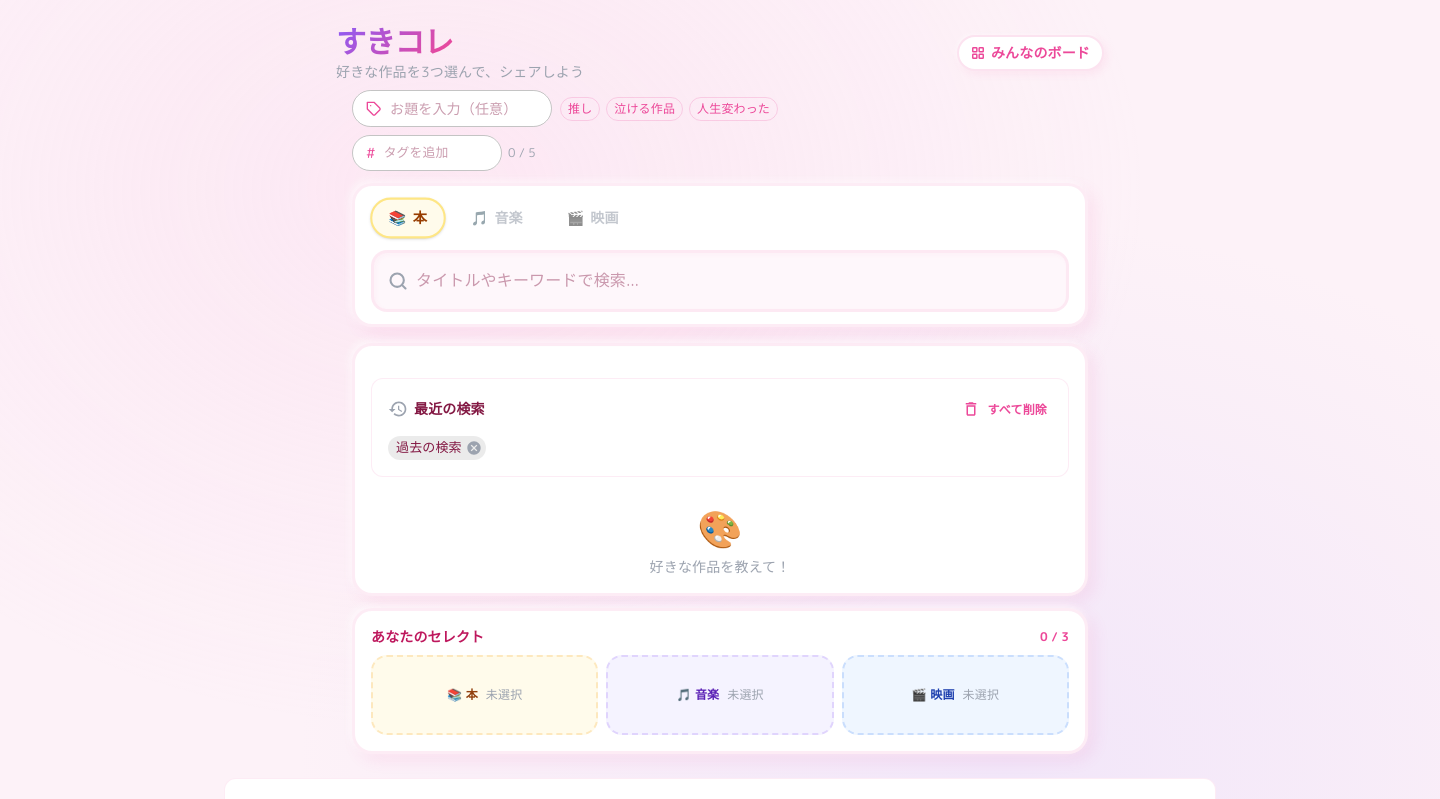
Test: SearchPage - search history integration › populates search bar when history keyword is clicked
The image size is (1440, 799).
Step 1. Click the button "過去の検索" → (437, 448), box x1=388 y1=436 x2=486 y2=460
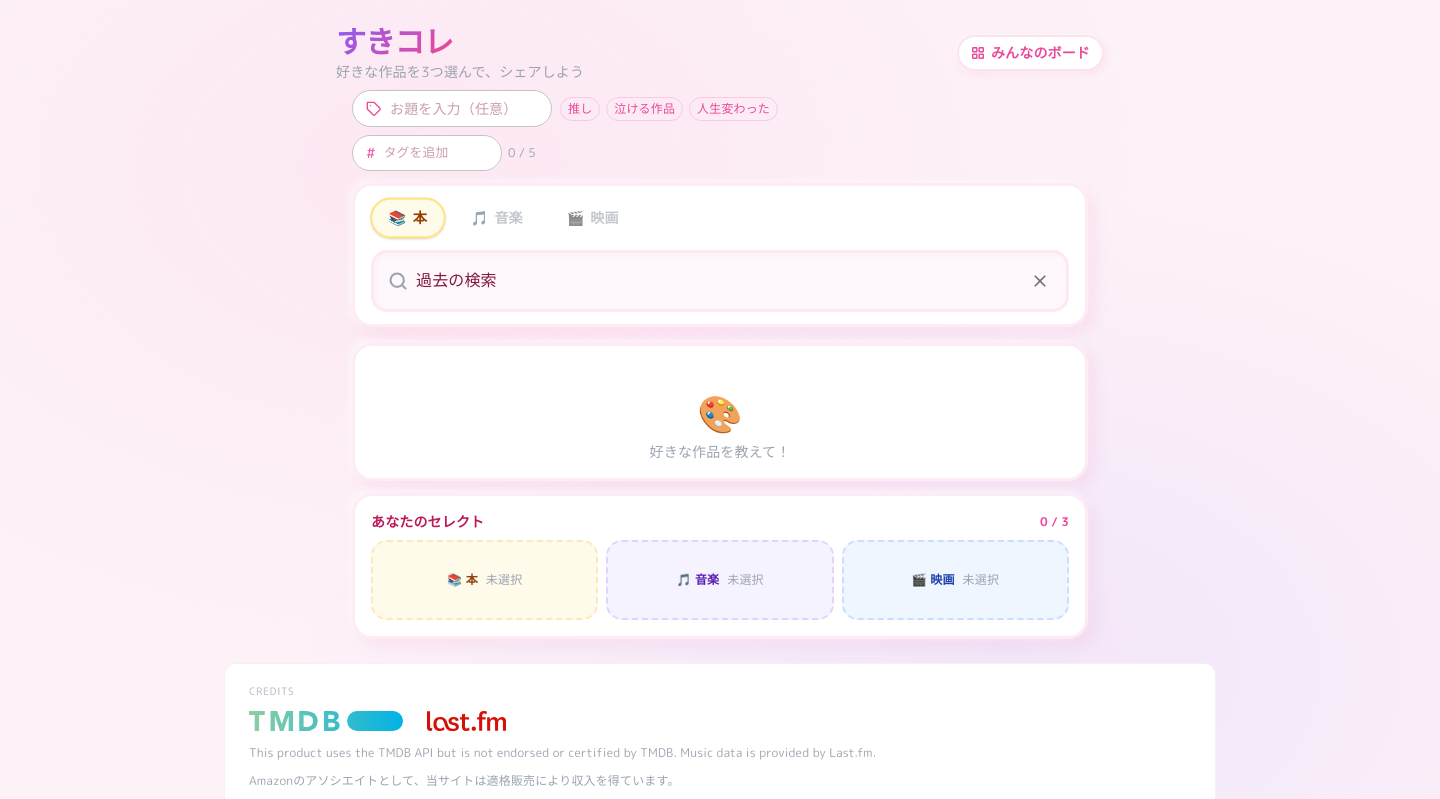
expect the field with placeholder "タイトルやキーワードで検索..." holds "過去の検索": met, box x1=416 y1=252 x2=1017 y2=308
